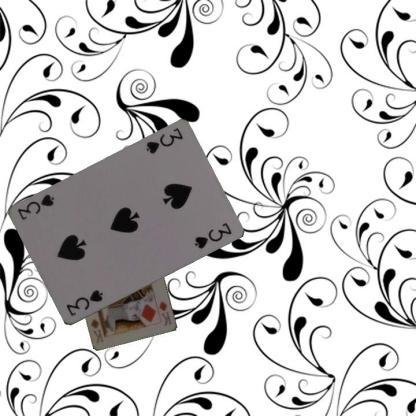3s: (64, 287, 106, 318), (142, 125, 184, 156)
Kd: (156, 298, 173, 328)
